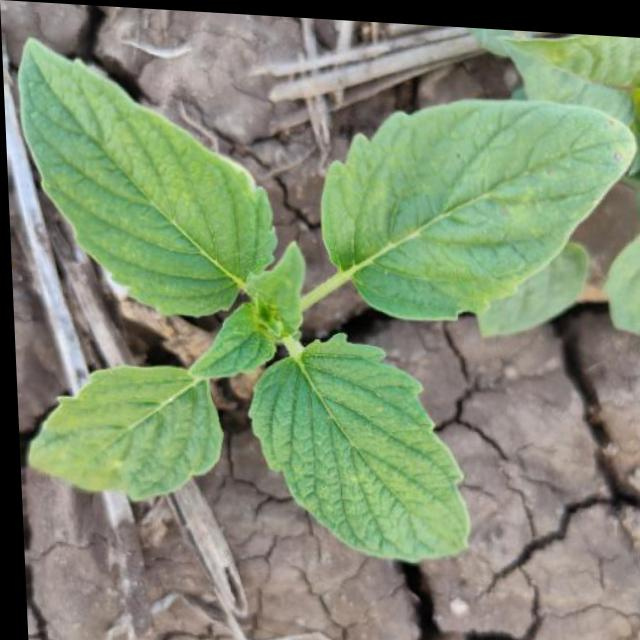crop: (12, 30, 640, 572)
